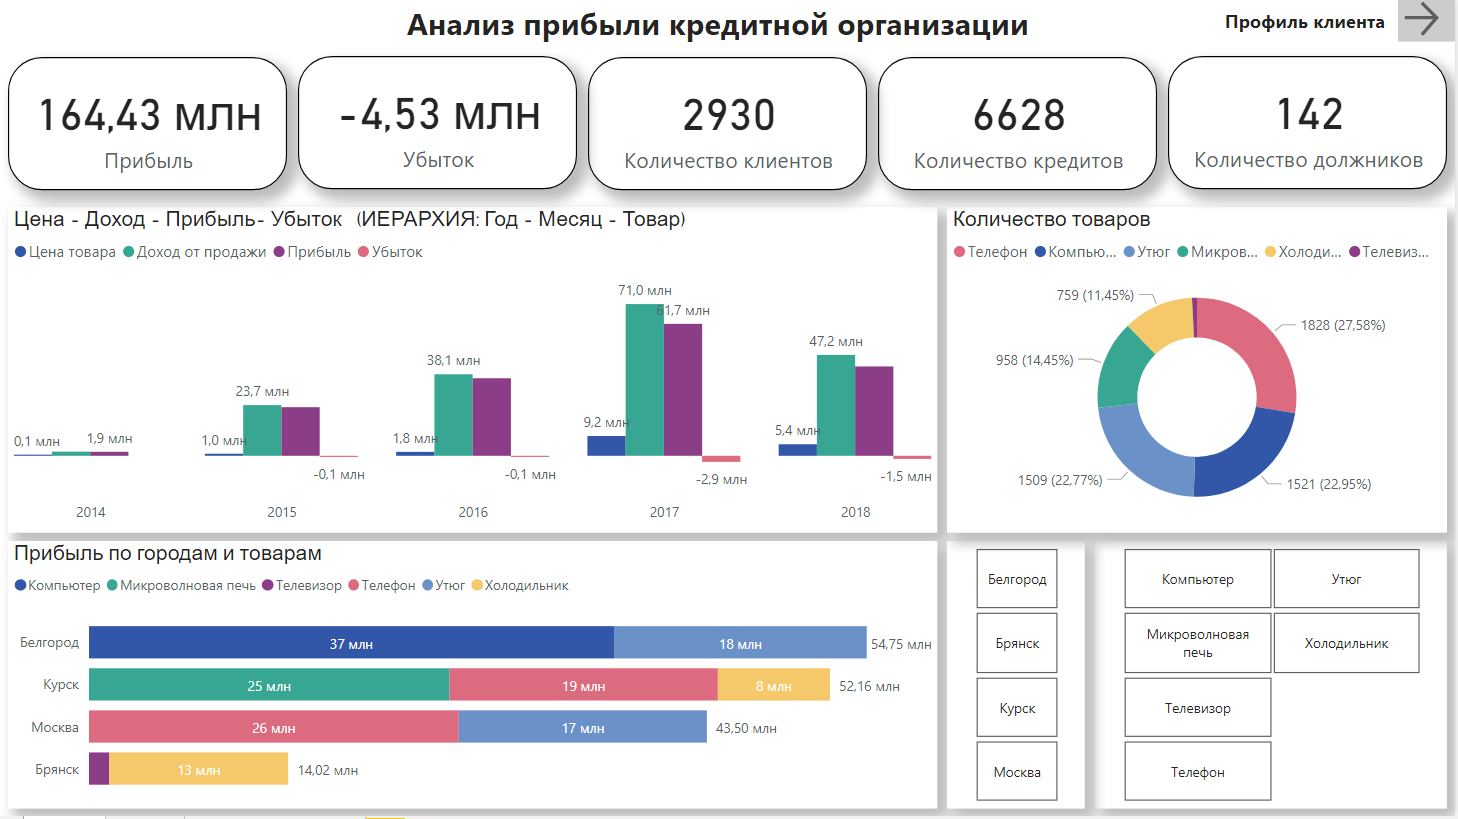

What the dashboard file says about the page in this screenshot:
{"tool":"powerbi","page":{"name":"Анализ","canvas":[1280,720],"ordinal":0},"visuals":[{"type":"clusteredColumnChart","title":"Цена - Доход - Прибыль- Убыток   (ИЕРАРХИЯ: Год - Месяц - Товар)","fields":{"Category":["БД.Дата продажи.Изменение.Иерархия дат.Год","БД.Дата продажи.Изменение.Иерархия дат.Месяц","БД.Купленный товар"],"Y":["Sum(БД.Цена товара)","Sum(БД.Доход от продажи)","Sum(БД.Прибыль)","Sum(БД.Убыток)"]},"box":[9.7,185.3,815.7,286.2],"z":0},{"type":"textbox","box":[355.1,0,569.9,52.7],"z":1000},{"type":"slicer","fields":{"Values":["БД.Купленный товар"]},"box":[964.1,478.5,309.1,235.3],"z":2000},{"type":"barChart","title":"Прибыль по городам и товарам","fields":{"Category":["БД.Город проживания"],"Y":["Sum(БД.Прибыль)"],"Series":["БД.Купленный товар"]},"box":[9.7,478.5,815.7,235.3],"z":3000},{"type":"slicer","fields":{"Values":["БД.Город проживания"]},"box":[834.1,478.5,121.2,235.3],"z":4000},{"type":"donutChart","title":"Количество товаров","fields":{"Category":["БД.Купленный товар"],"Y":["CountNonNull(БД.Купленный товар)"]},"box":[834.1,185.3,439,286.2],"z":5000},{"type":"card","fields":{"Values":["Sum(БД.Прибыль)"]},"box":[9.7,53.1,245,116.8],"z":6000},{"type":"card","fields":{"Values":["CountNonNull(БД.Купленный товар)"]},"box":[773.6,53.3,245,116.8],"z":7000},{"type":"card","fields":{"Values":["Count(БД.ID клиента)"]},"box":[518.9,53.6,245,116.8],"z":8000},{"type":"card","fields":{"Values":["Sum(БД.Убыток)"]},"box":[264.3,52.9,245,116.8],"z":9000},{"type":"card","fields":{"Values":["БД.Количество Убыток минус Максимум Убыток"]},"box":[1028.2,52.7,245,116.8],"z":10000},{"type":"actionButton","box":[1230.1,0,50,40.4],"z":11000},{"type":"textbox","box":[1066.8,6.1,163.3,40.4],"z":12000}]}

Visuals, with their boxes in screenshot pixels (x1, y1, x2, y2), scaled from the page's 1280x720 canvas onto the 1458x819 screenshot:
"Цена - Доход - Прибыль- Убыток   (ИЕРАРХИЯ: Год - Месяц - Товар)" clusteredColumnChart: select_region(11, 211, 940, 536)
textbox: select_region(404, 0, 1054, 60)
slicer - БД.Купленный товар: select_region(1098, 544, 1450, 812)
"Прибыль по городам и товарам" barChart: select_region(11, 544, 940, 812)
slicer - БД.Город проживания: select_region(950, 544, 1088, 812)
"Количество товаров" donutChart: select_region(950, 211, 1450, 536)
card - Sum(БД.Прибыль): select_region(11, 60, 290, 193)
card - CountNonNull(БД.Купленный товар): select_region(881, 61, 1160, 193)
card - Count(БД.ID клиента): select_region(591, 61, 870, 194)
card - Sum(БД.Убыток): select_region(301, 60, 580, 193)
card - БД.Количество Убыток минус Максимум Убыток: select_region(1171, 60, 1450, 193)
actionButton: select_region(1401, 0, 1457, 46)
textbox: select_region(1215, 7, 1401, 53)
